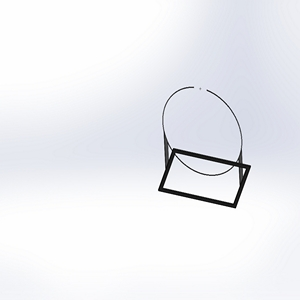circle: (156, 83, 251, 209)
